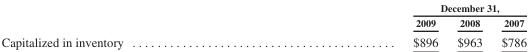table: (0, 1, 525, 48)
table column: (0, 1, 267, 48), (267, 1, 447, 48), (447, 1, 491, 48), (491, 1, 525, 48)
table column header: (0, 1, 525, 31)
table row: (0, 14, 525, 31), (0, 31, 525, 48), (0, 1, 525, 14)
table spanning cell: (267, 1, 525, 14)
